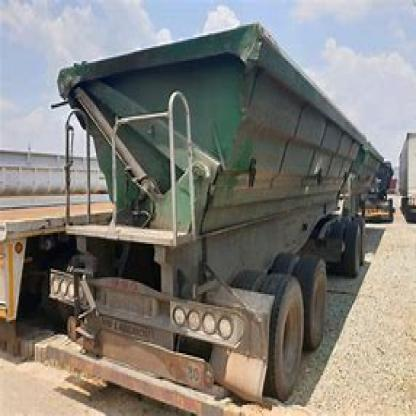dump_truck: (50, 24, 402, 410)
